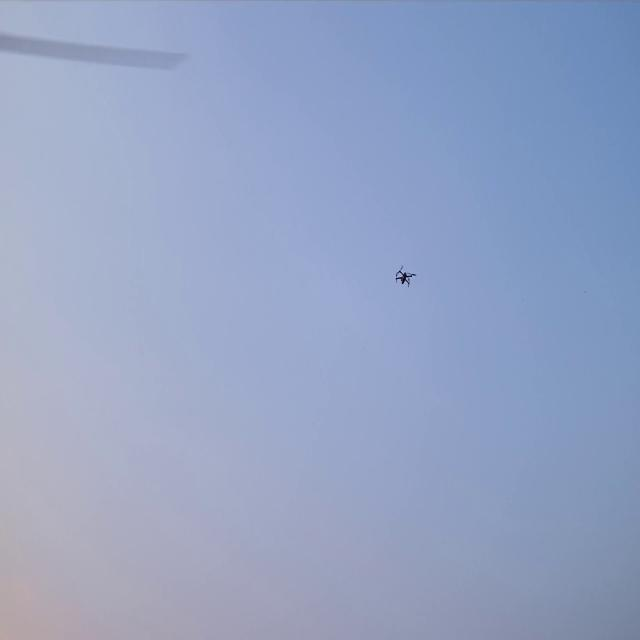UAV: (393, 262, 417, 288)
